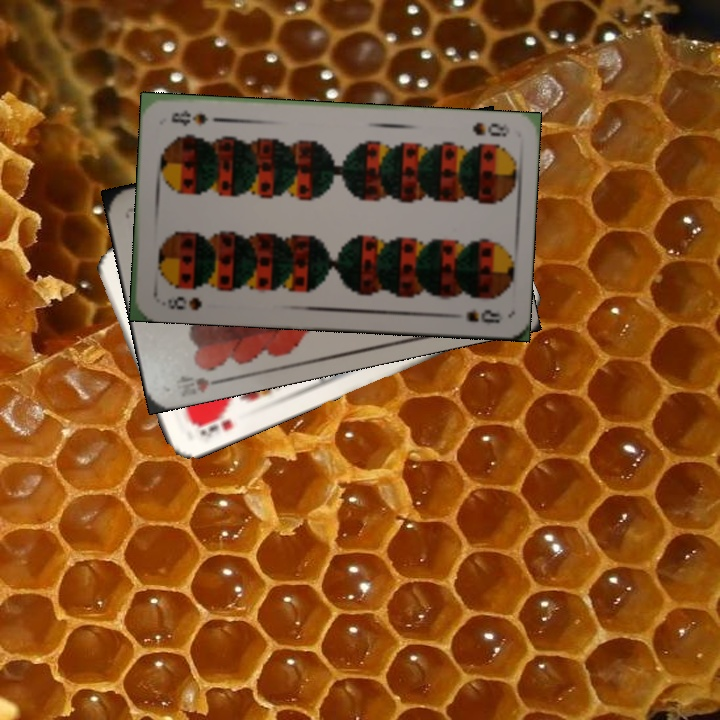H10: (192, 373, 228, 394)
HK: (192, 407, 236, 441)
S8: (163, 292, 204, 313), (469, 118, 509, 139)
